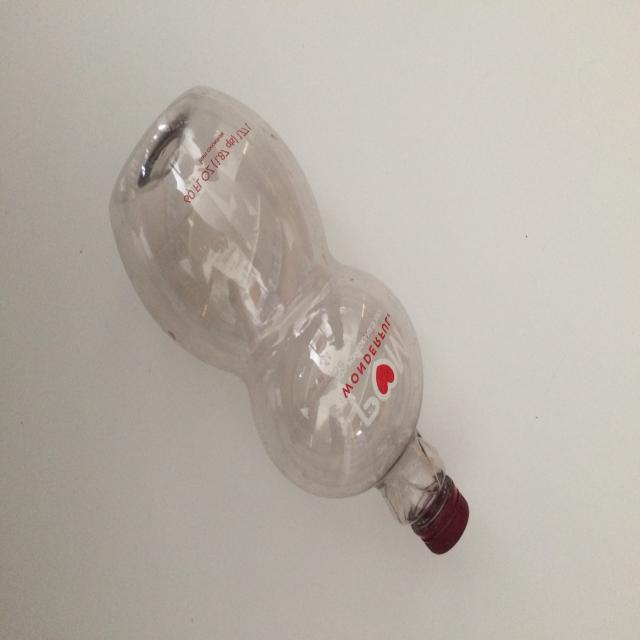plastic: (109, 83, 470, 554)
